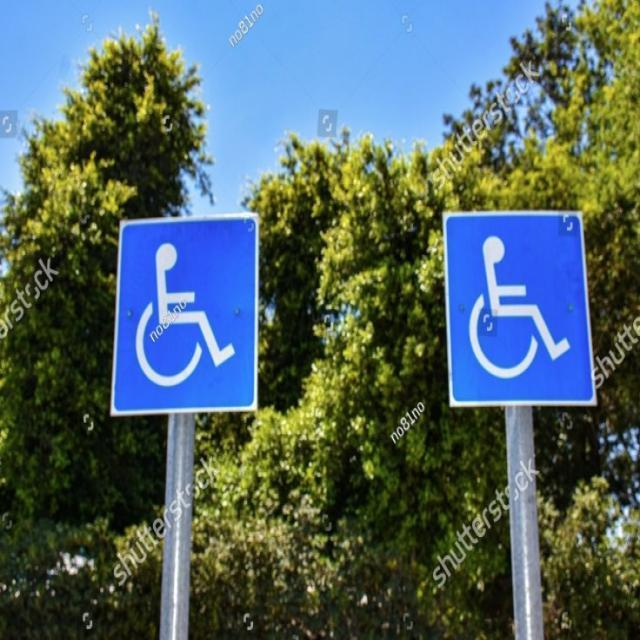symbol_of_access: (439, 206, 599, 412), (105, 210, 262, 418)
